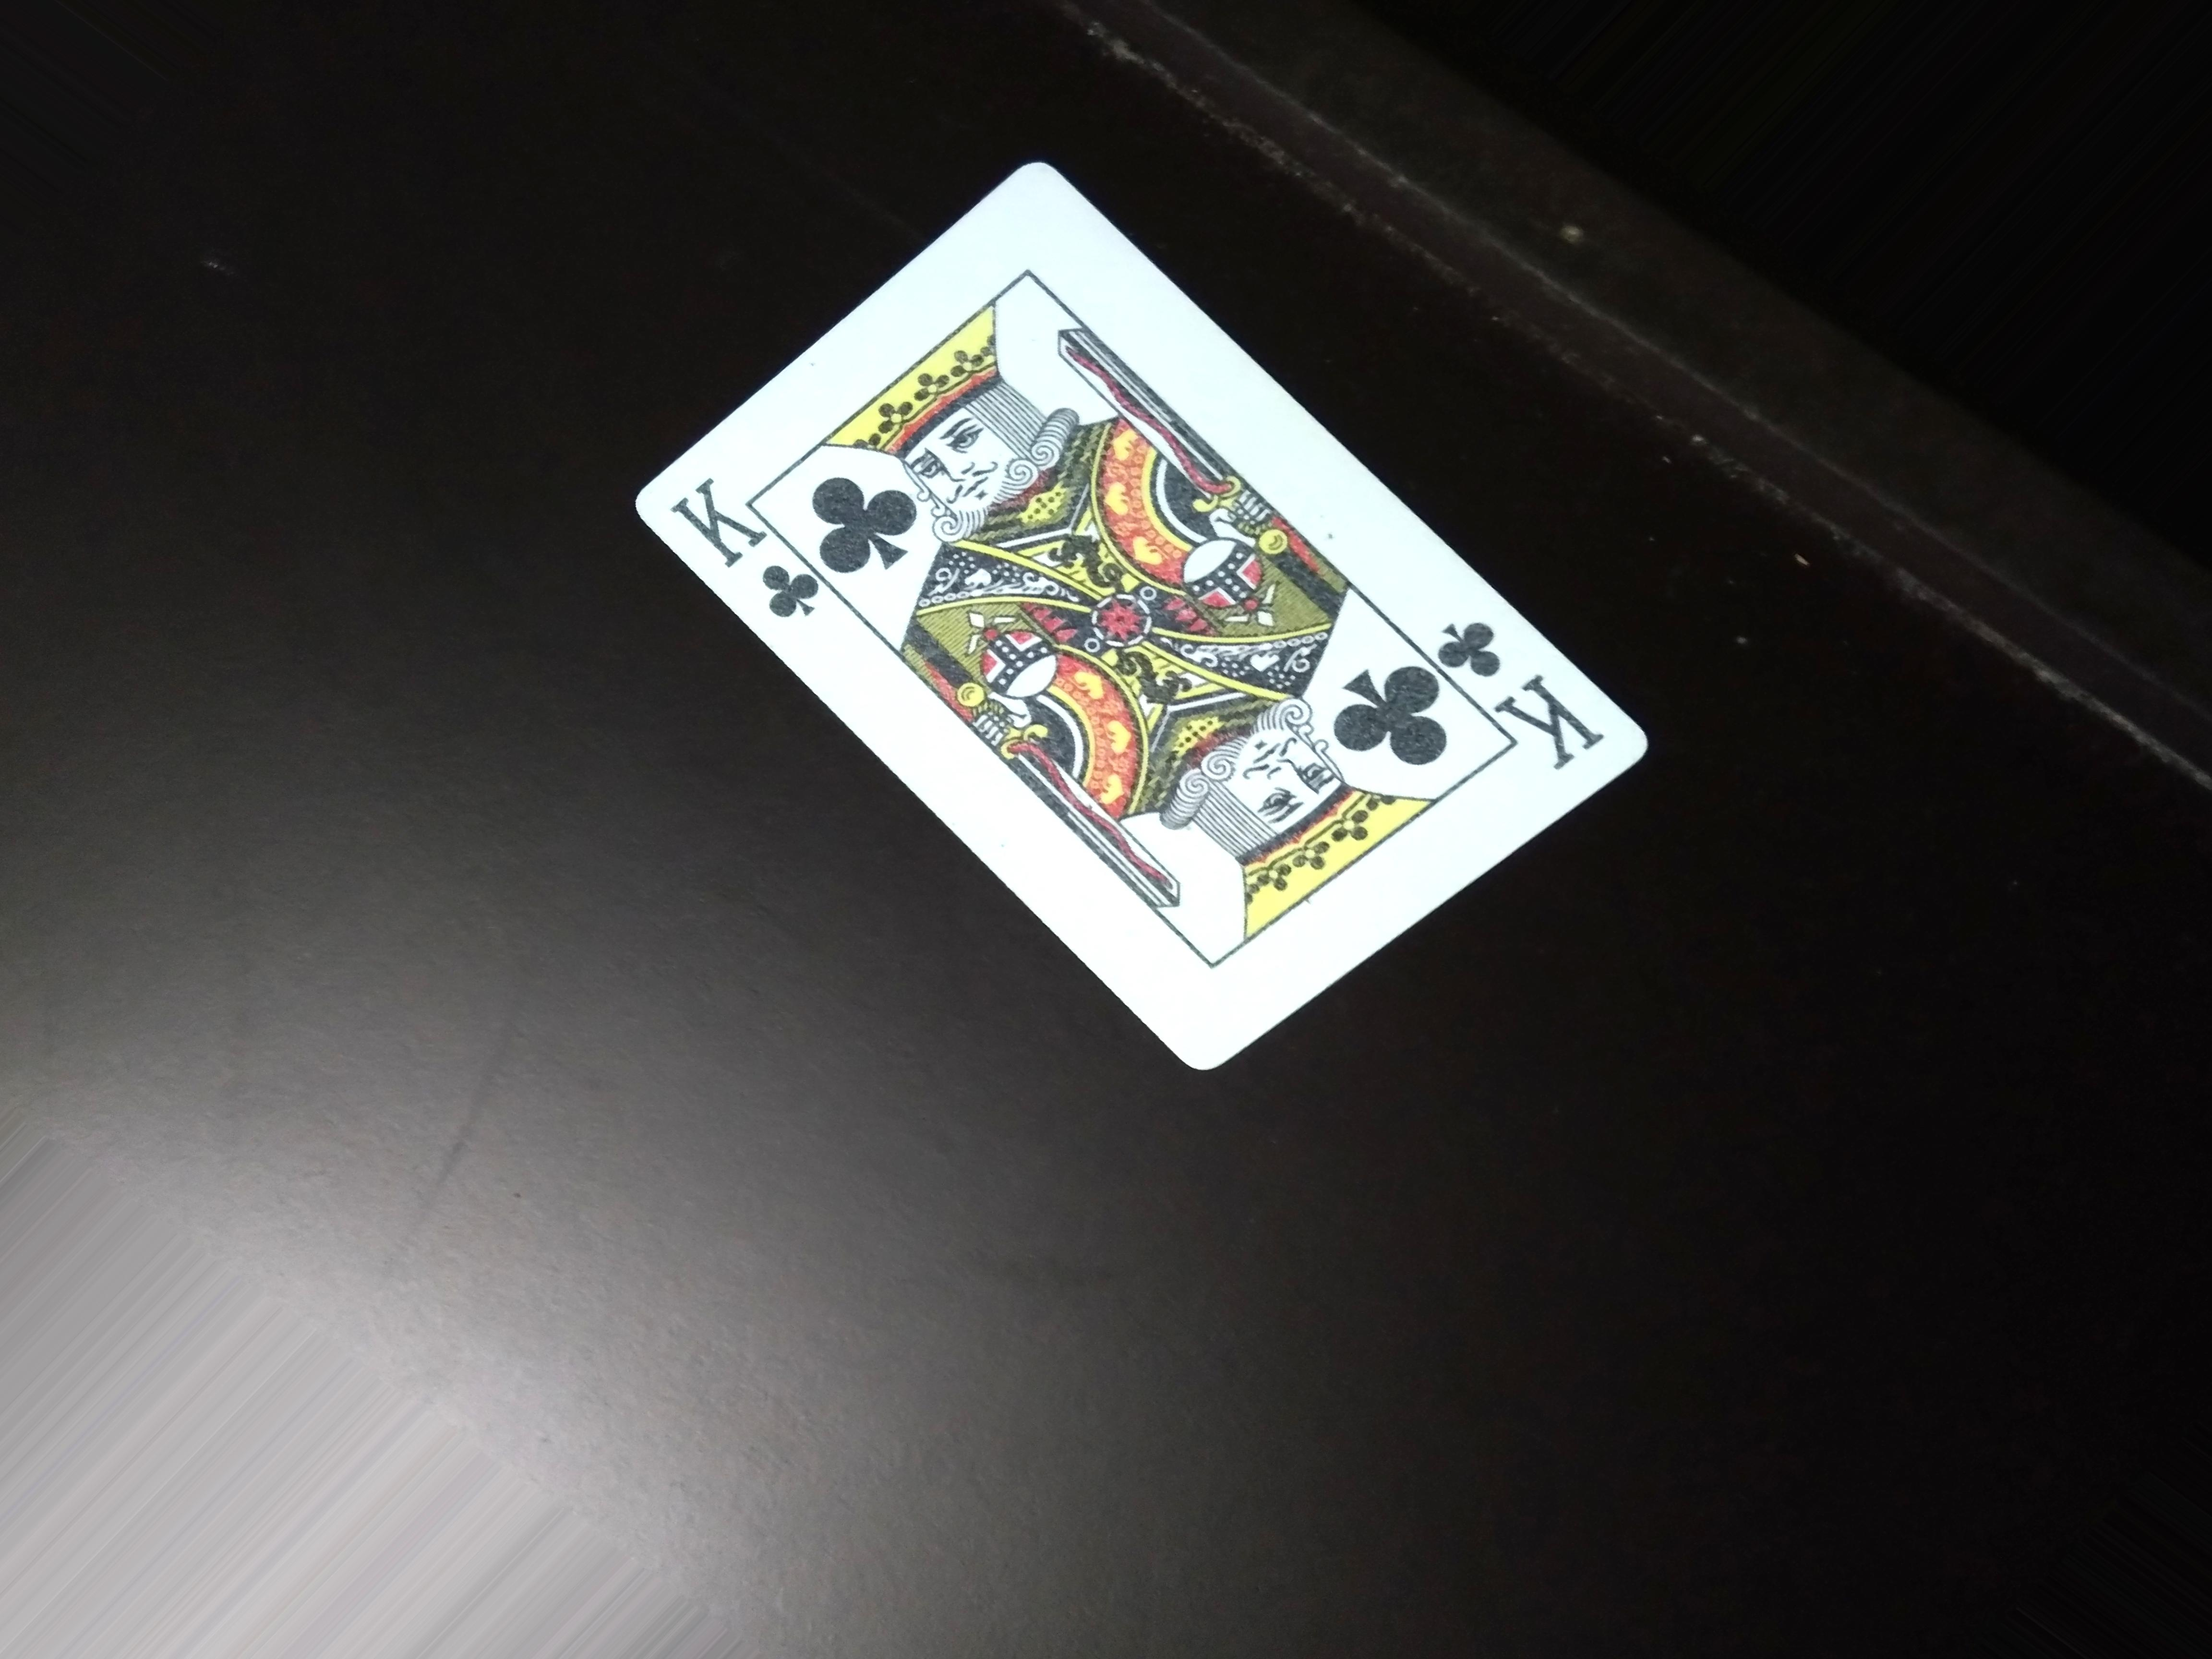KC: (678, 460, 812, 633)
